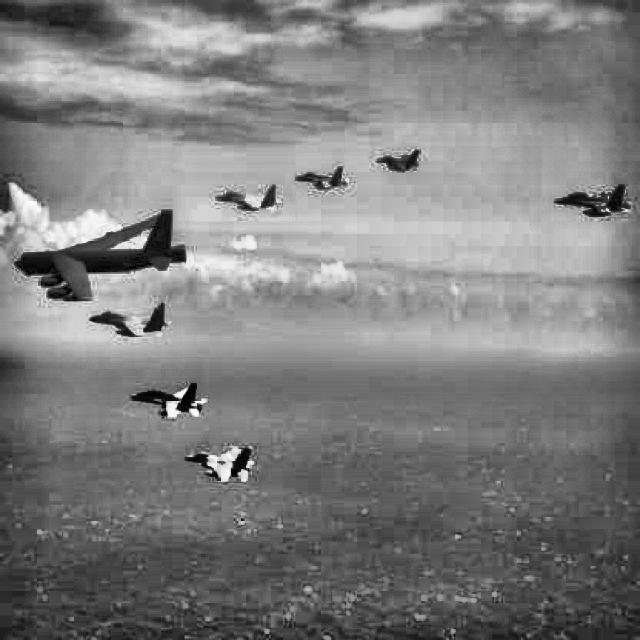B52: (14, 209, 188, 302)
F15: (89, 300, 173, 338), (215, 185, 282, 212)
F16: (183, 445, 254, 483), (375, 149, 419, 173)
F18: (128, 382, 208, 420), (554, 183, 635, 219), (293, 166, 350, 191)
